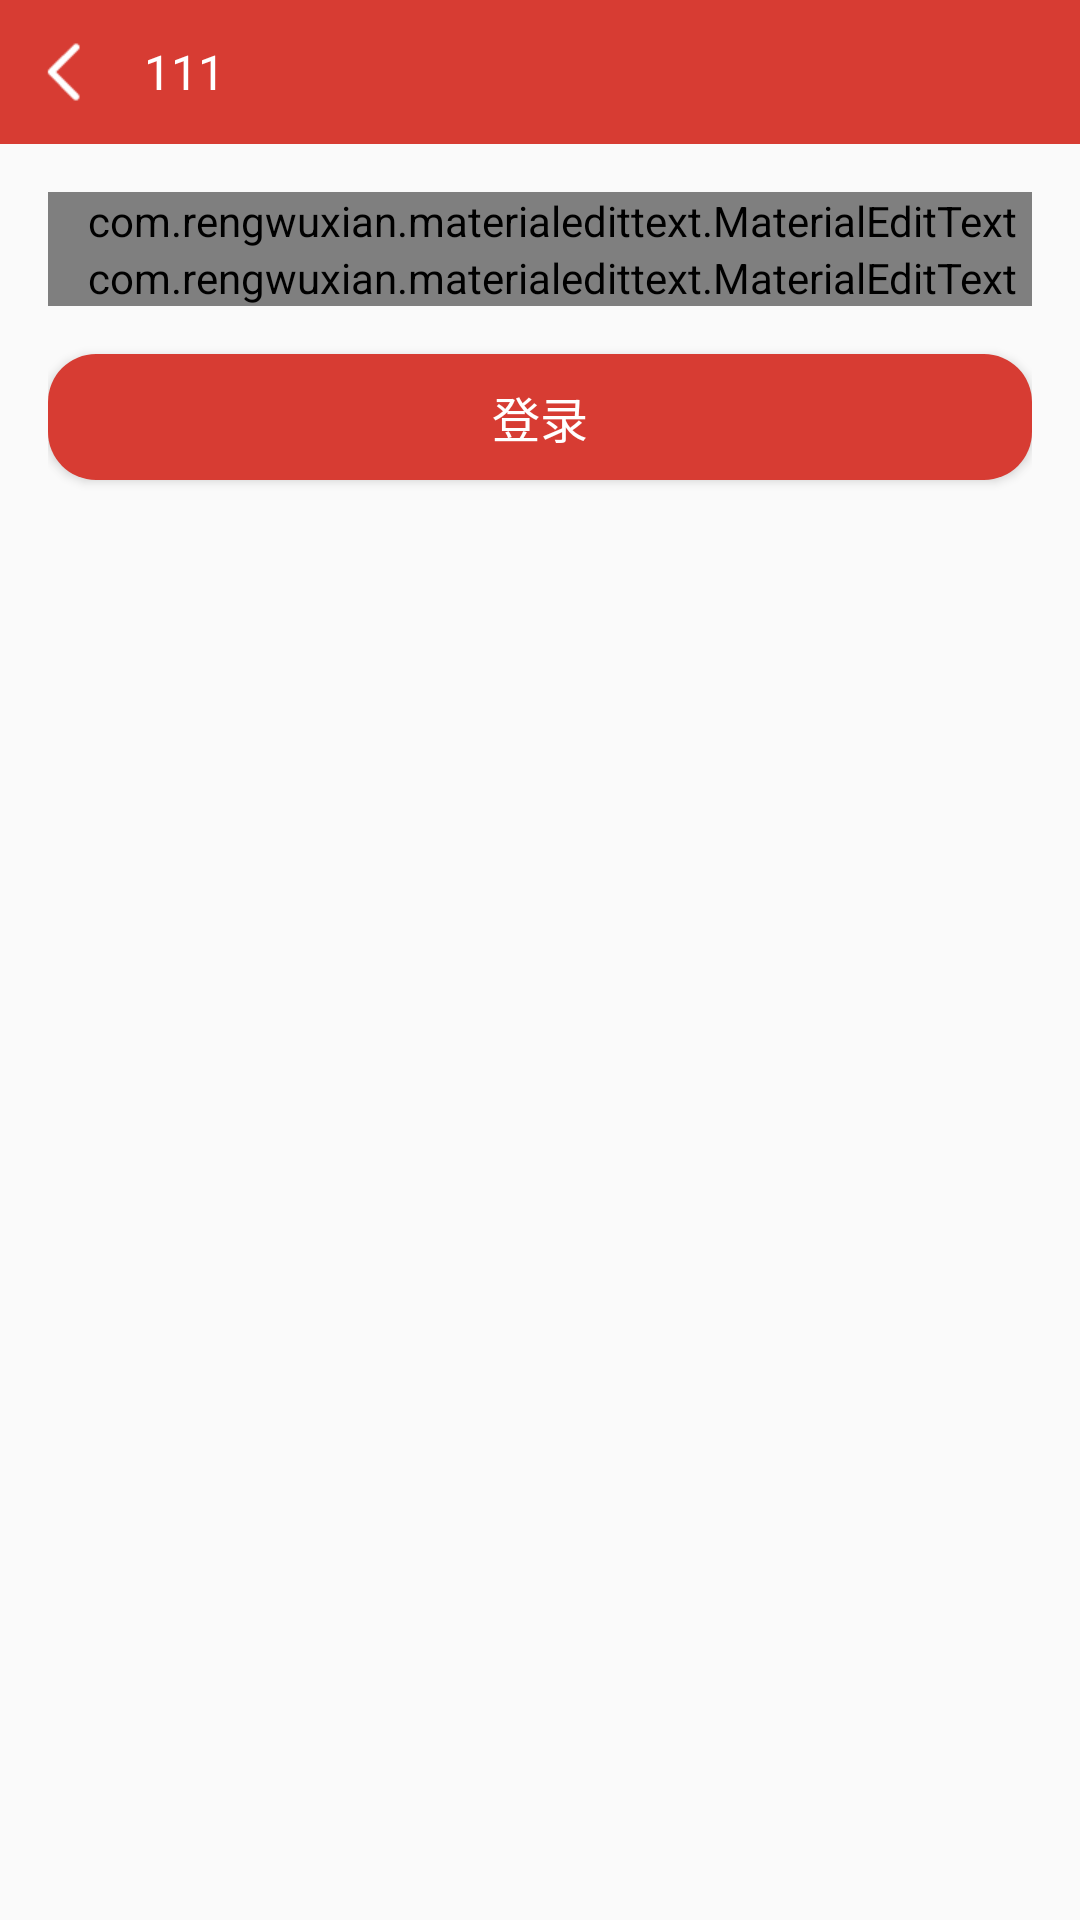

Locate icon controls on the screen. Image size 1080×1920, boxes as [left=x1, top=y1, right=x2, bottom=y2].
back: [left=47, top=43, right=80, bottom=101]
